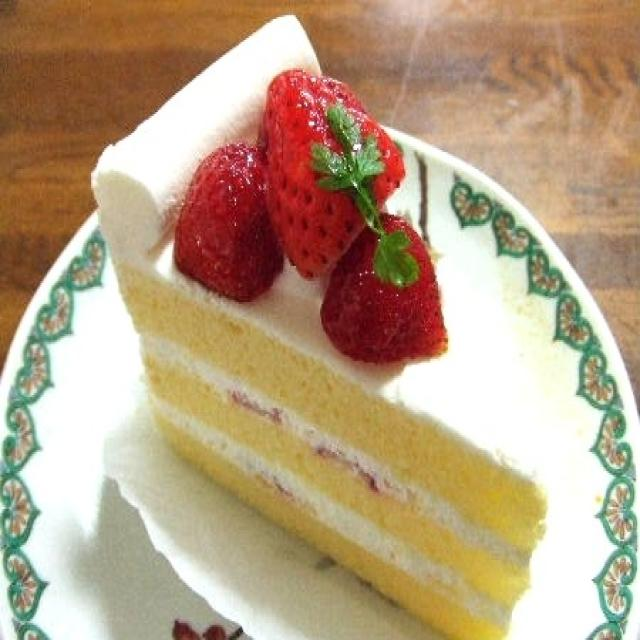蛋糕甜品: (7, 4, 622, 630)
